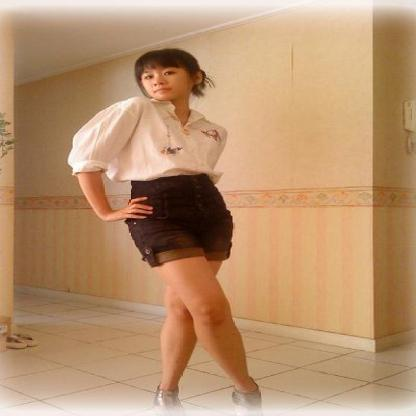shirt: (68, 97, 226, 180)
shoe: (162, 384, 260, 406)
skirt: (124, 173, 232, 267)
